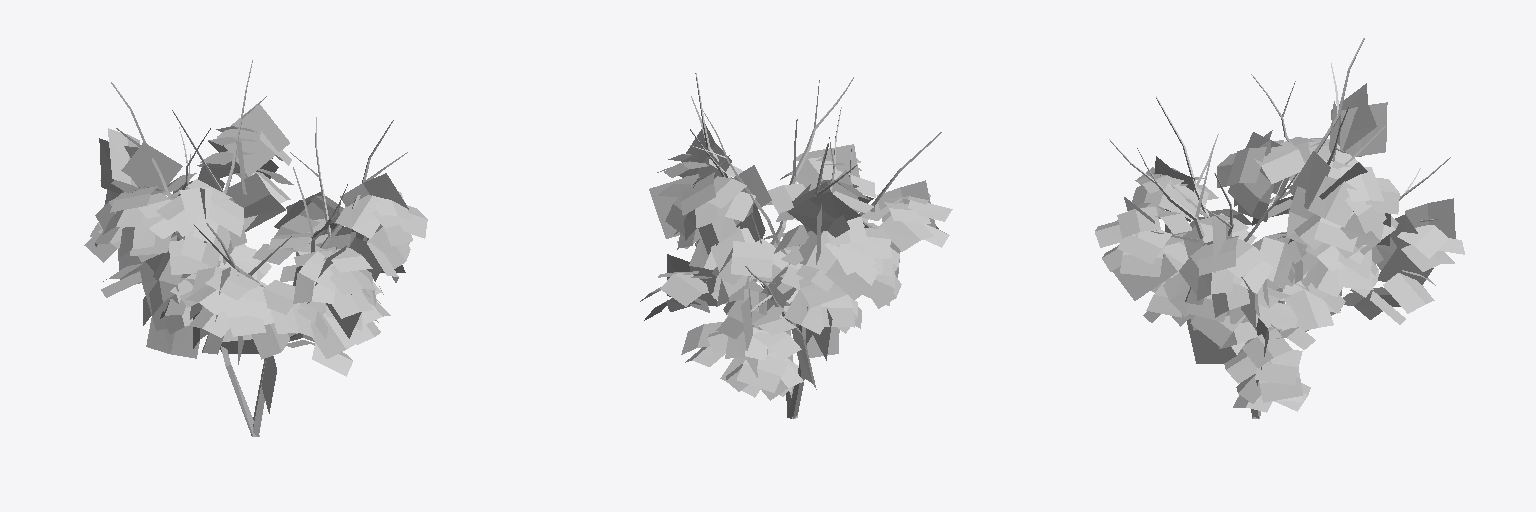
File: tree3b_lod1.obj
The picture shows the model from 3 angles: view 1: azimuth 30°, elevation 25°; view 2: azimuth 150°, elevation 25°; view 3: azimuth 270°, elevation 25°; orthographic projection.
Visible parts, largest first — view 1: leaves 0.0 0.[number redacted] 0.0 0 0 0 0.[number redacted] 0.[number redacted], bark 0.[number redacted] -0.[number redacted] 0.[number redacted]; view 2: leaves 0.0 0.[number redacted] 0.0 0 0 0 0.[number redacted] 0.[number redacted], bark 0.[number redacted] -0.[number redacted] 0.[number redacted]; view 3: leaves 0.0 0.[number redacted] 0.0 0 0 0 0.[number redacted] 0.[number redacted], bark 0.[number redacted] -0.[number redacted] 0.[number redacted].
Boxes of the visible parts, x1,y1,x2,y2 form: leaves 0.0 0.[number redacted] 0.0 0 0 0 0.[number redacted] 0.[number redacted]: [84, 104, 427, 413]; bark 0.[number redacted] -0.[number redacted] 0.[number redacted]: [100, 60, 407, 436]; leaves 0.0 0.[number redacted] 0.0 0 0 0 0.[number redacted] 0.[number redacted]: [640, 124, 952, 400]; bark 0.[number redacted] -0.[number redacted] 0.[number redacted]: [689, 73, 941, 418]; leaves 0.0 0.[number redacted] 0.0 0 0 0 0.[number redacted] 0.[number redacted]: [1095, 83, 1464, 412]; bark 0.[number redacted] -0.[number redacted] 0.[number redacted]: [1109, 38, 1450, 418].
Bounding box in the file's own units: 0.8554 × 1 × 1.